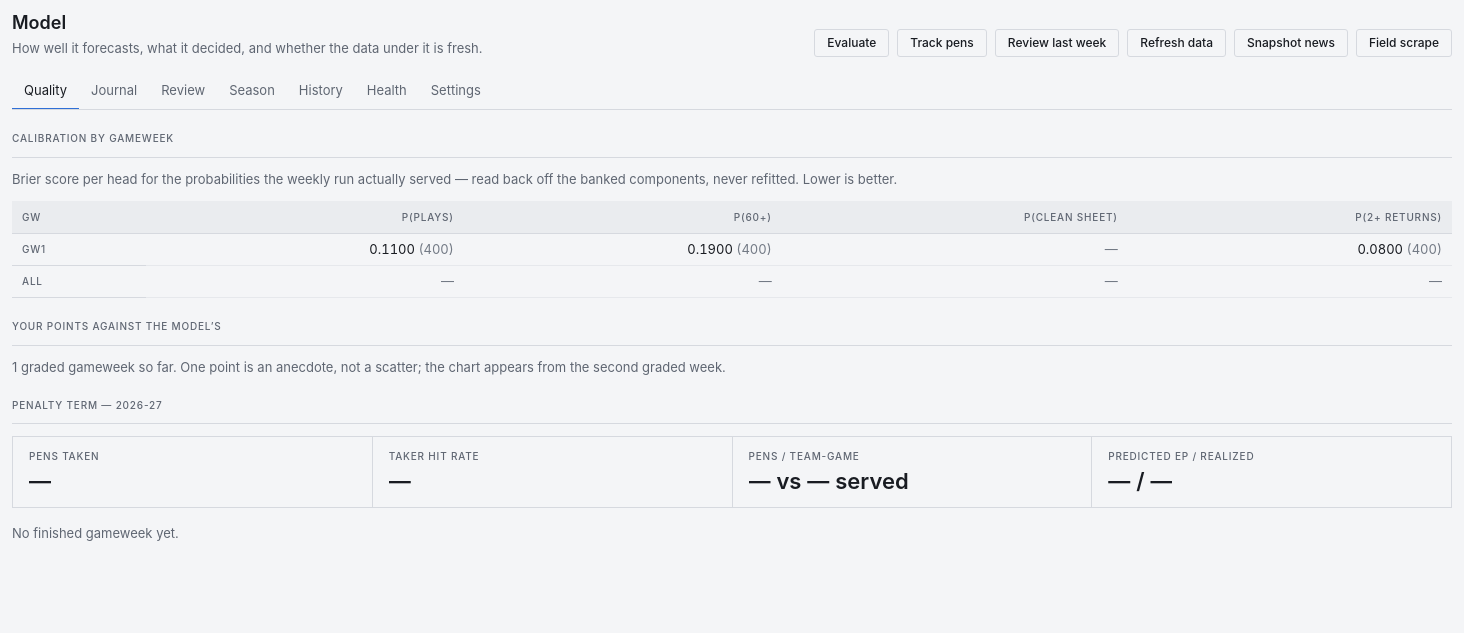
Test case: Model, walking three tabs in one visit › asks for /api/review once crossing Quality, Review and Season
Click the tab "Review" at (183, 92), box x1=149 y1=73 x2=217 y2=110
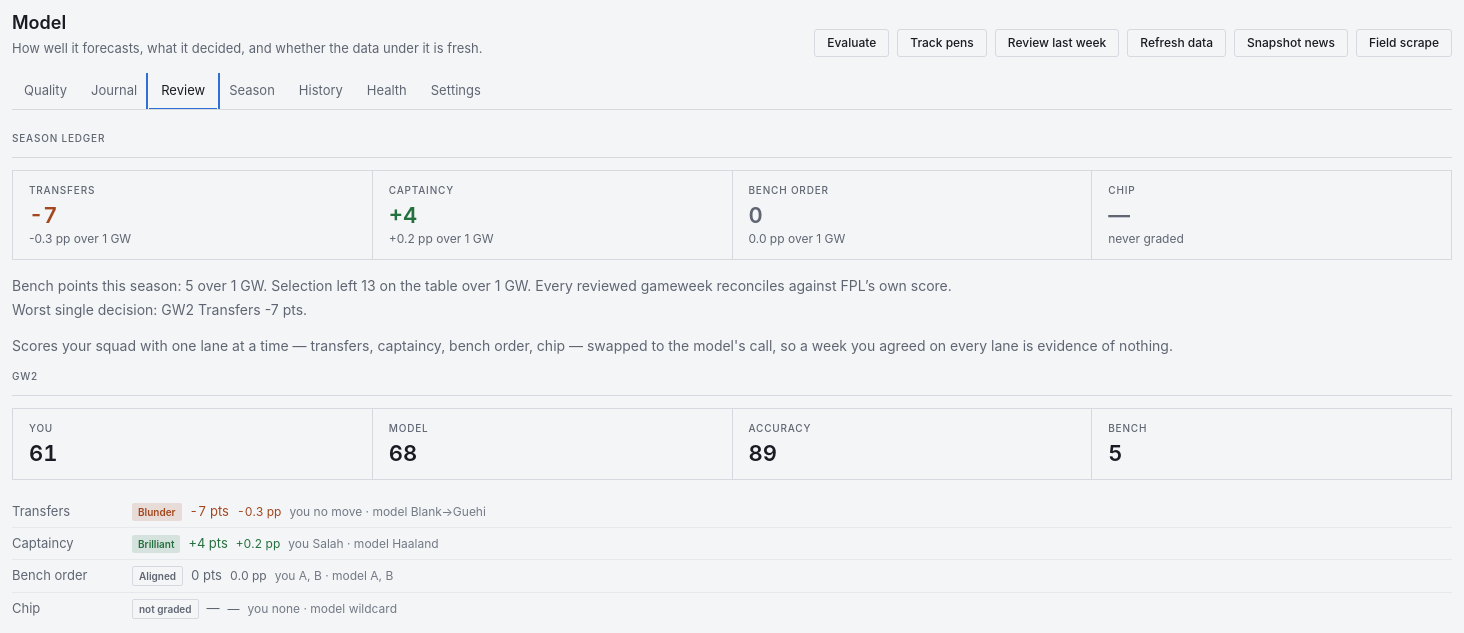
Check: the element with test id "season-transfers" is shown, box x1=13 y1=171 x2=372 y2=259
Click the tab "Season" at (252, 92), box x1=217 y1=73 x2=287 y2=110
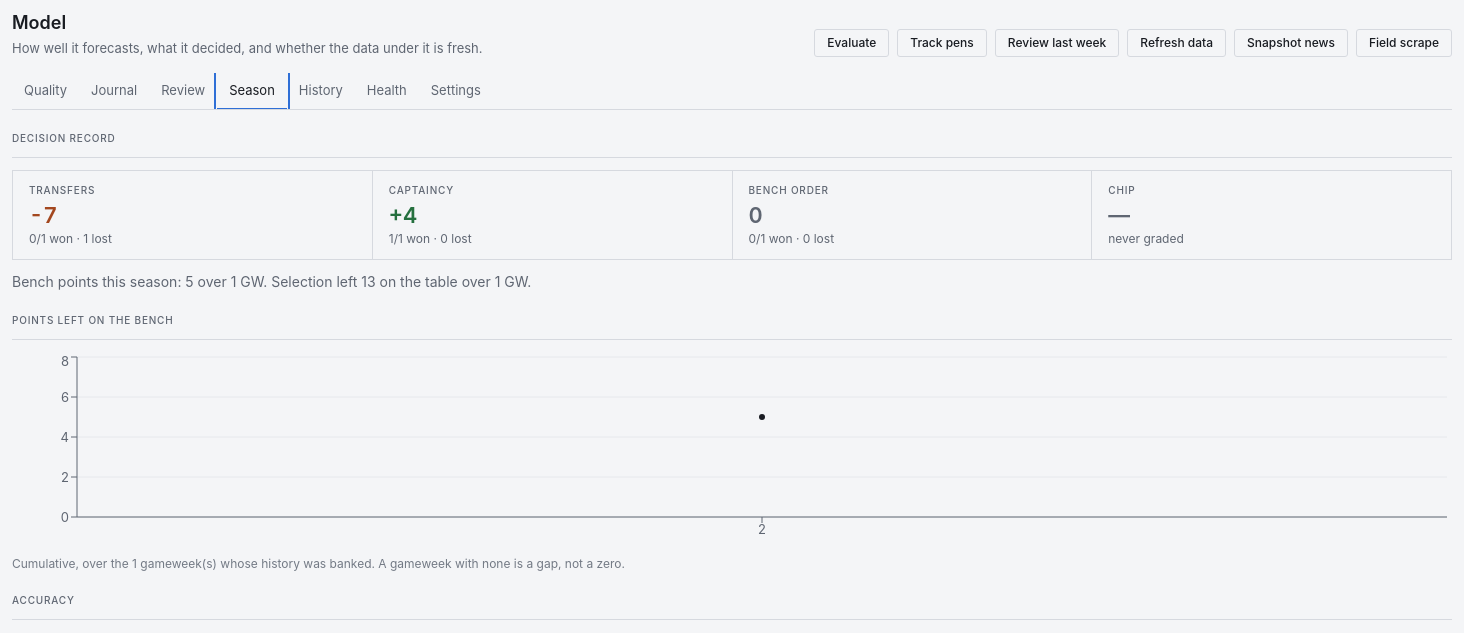
Check: the element with test id "season-lane-transfers" is shown, box x1=13 y1=171 x2=372 y2=259
